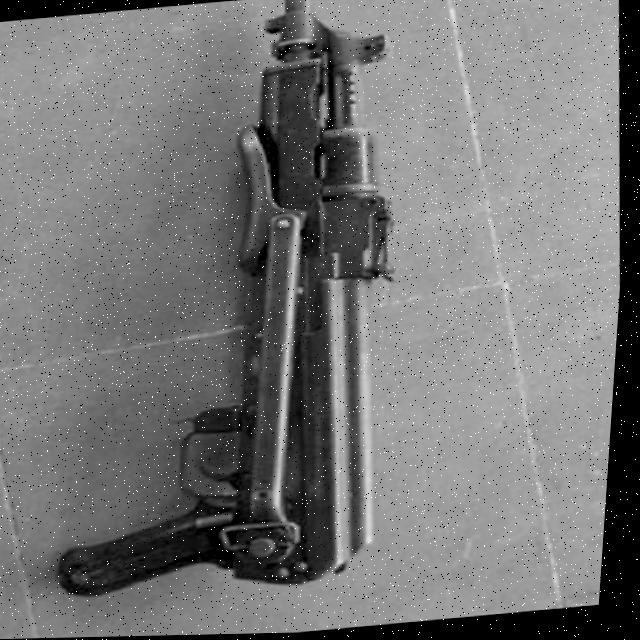firearm: (20, 0, 431, 610)
